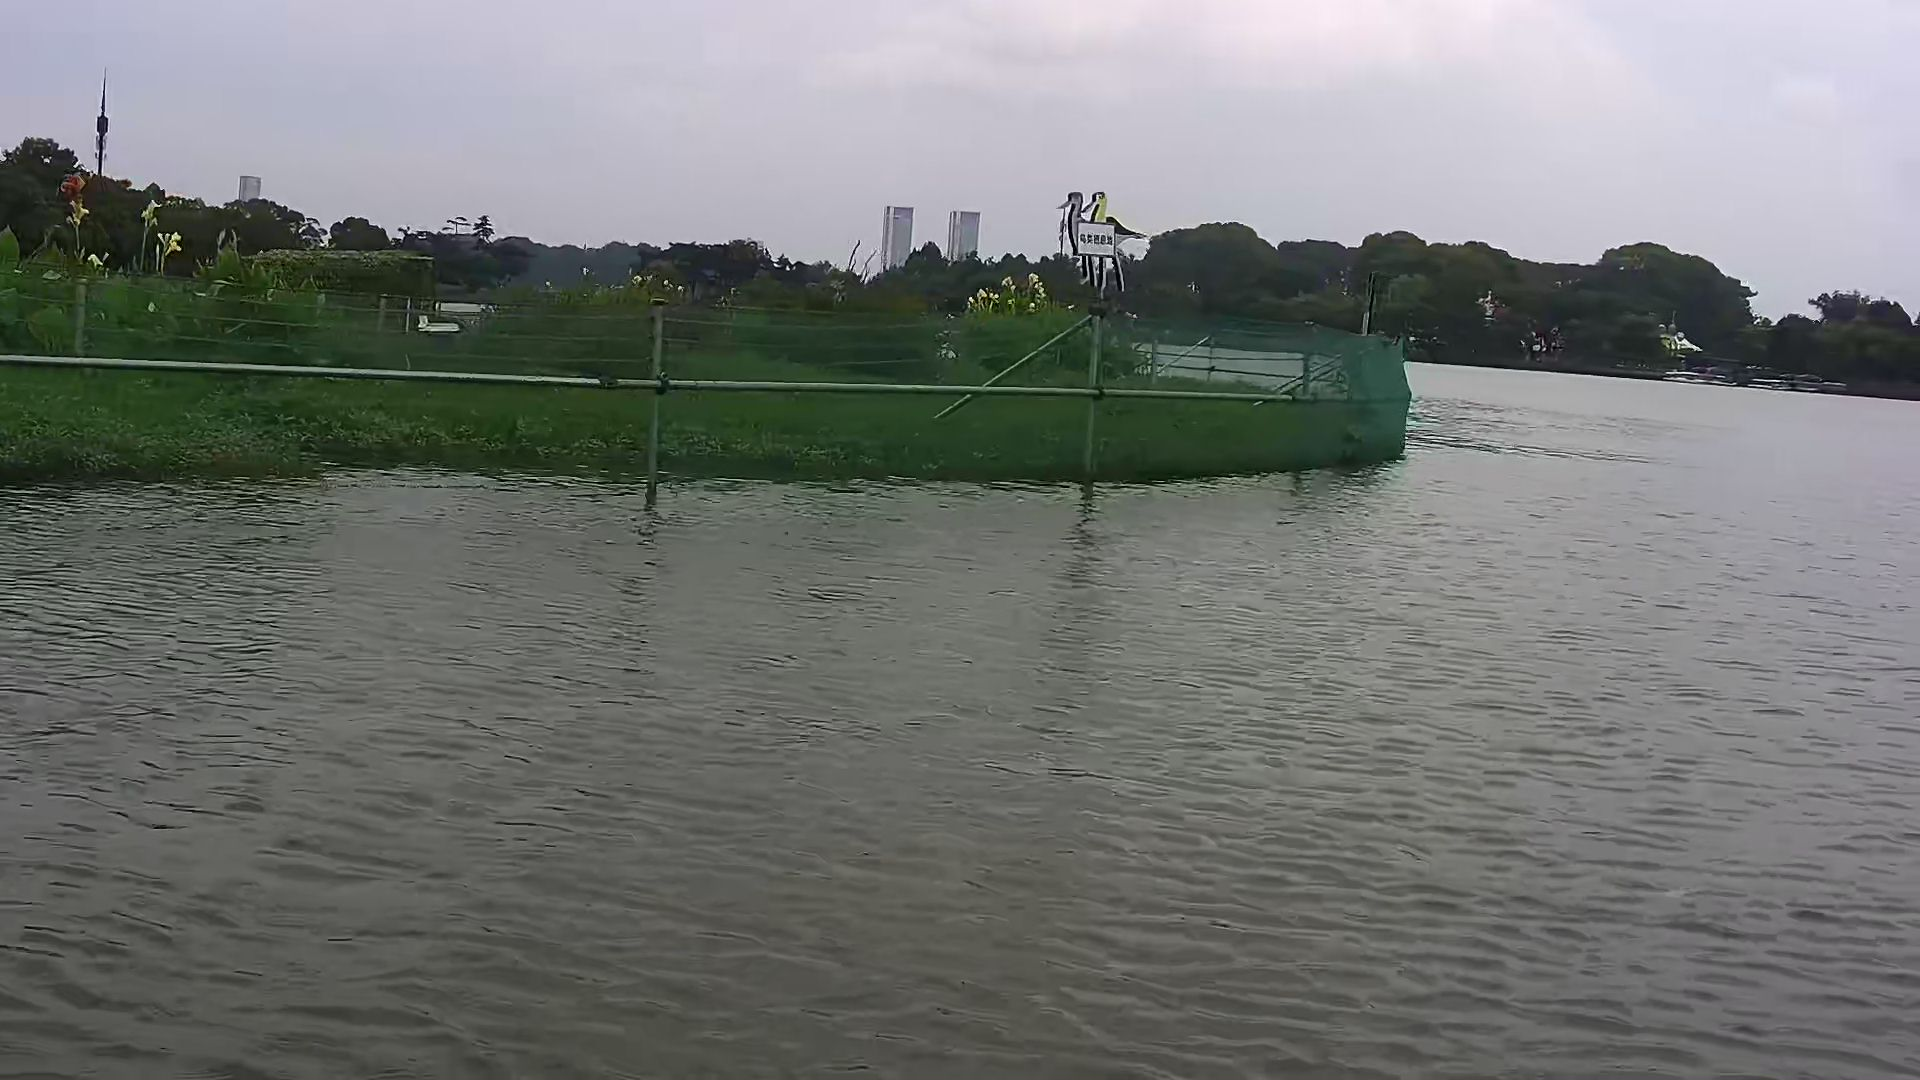grass: (22, 239, 1408, 487)
